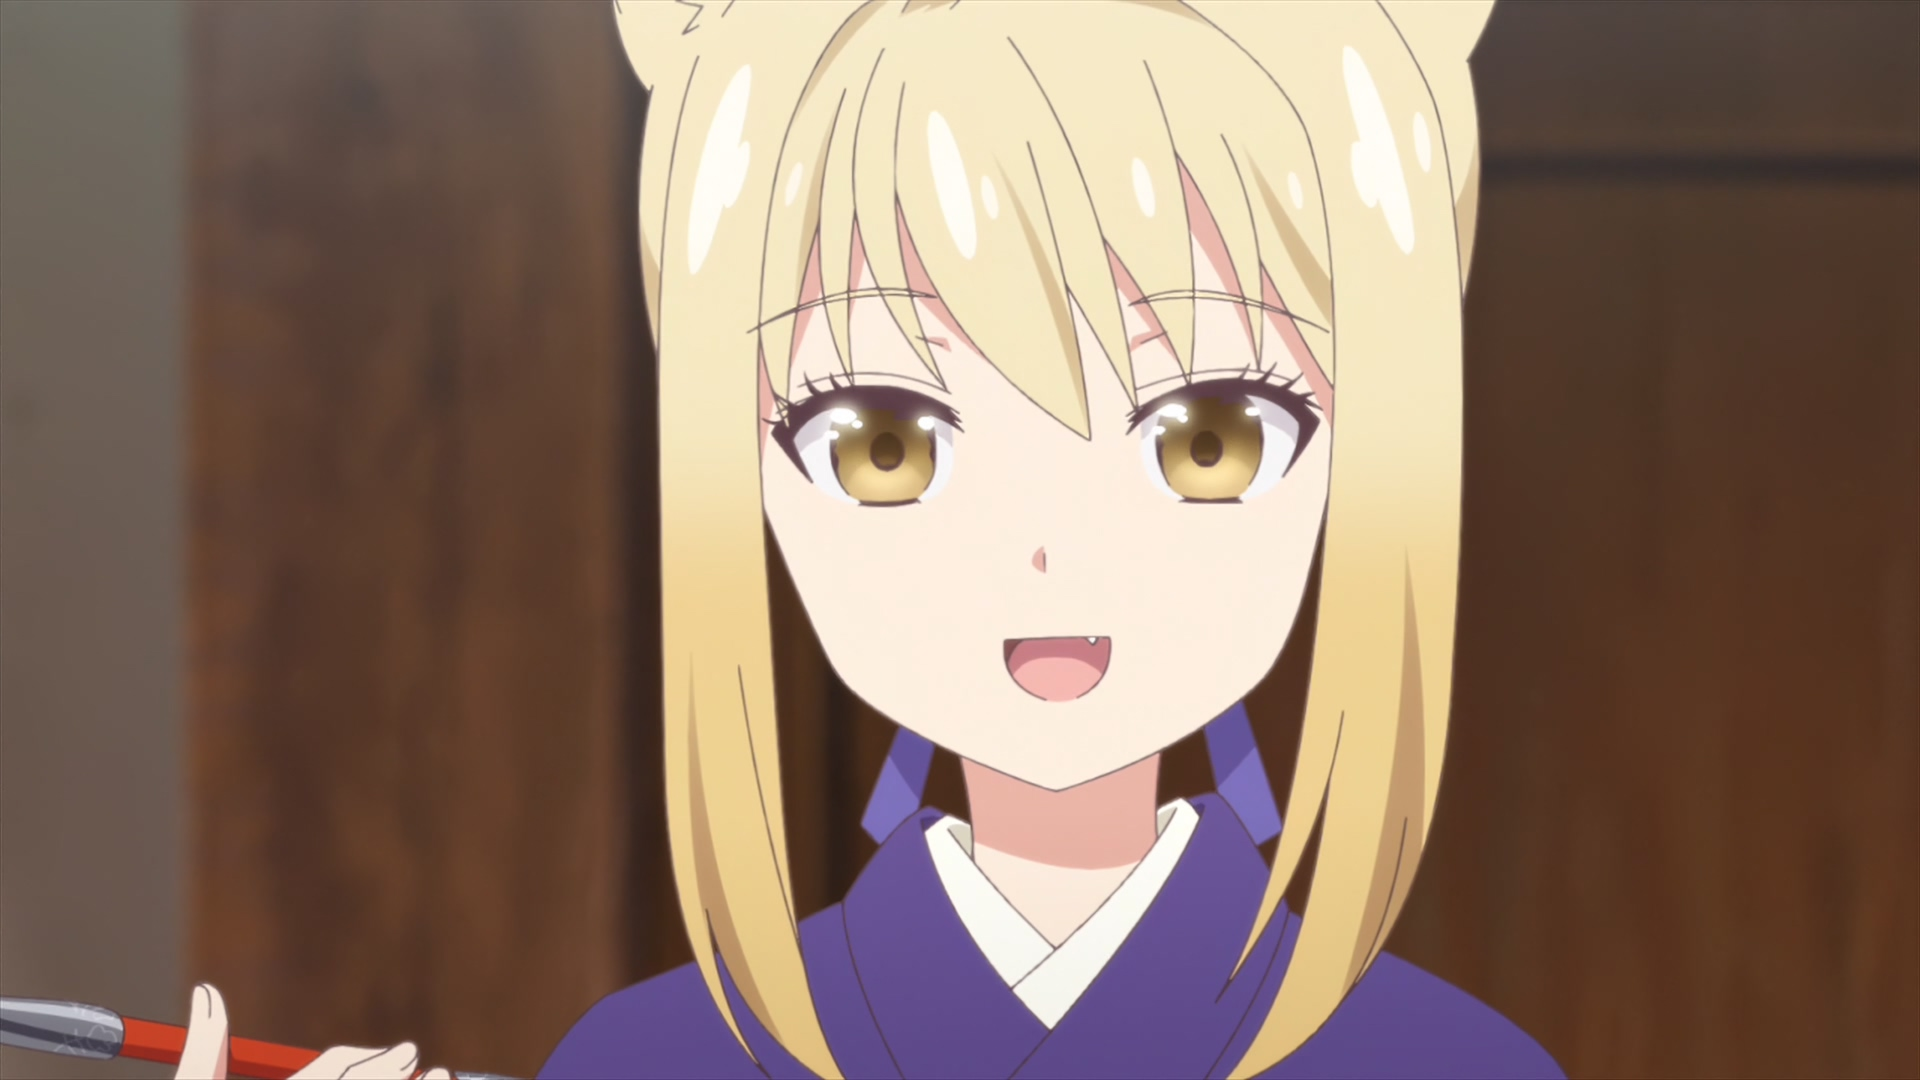桐: (534, 1, 1567, 1080)
